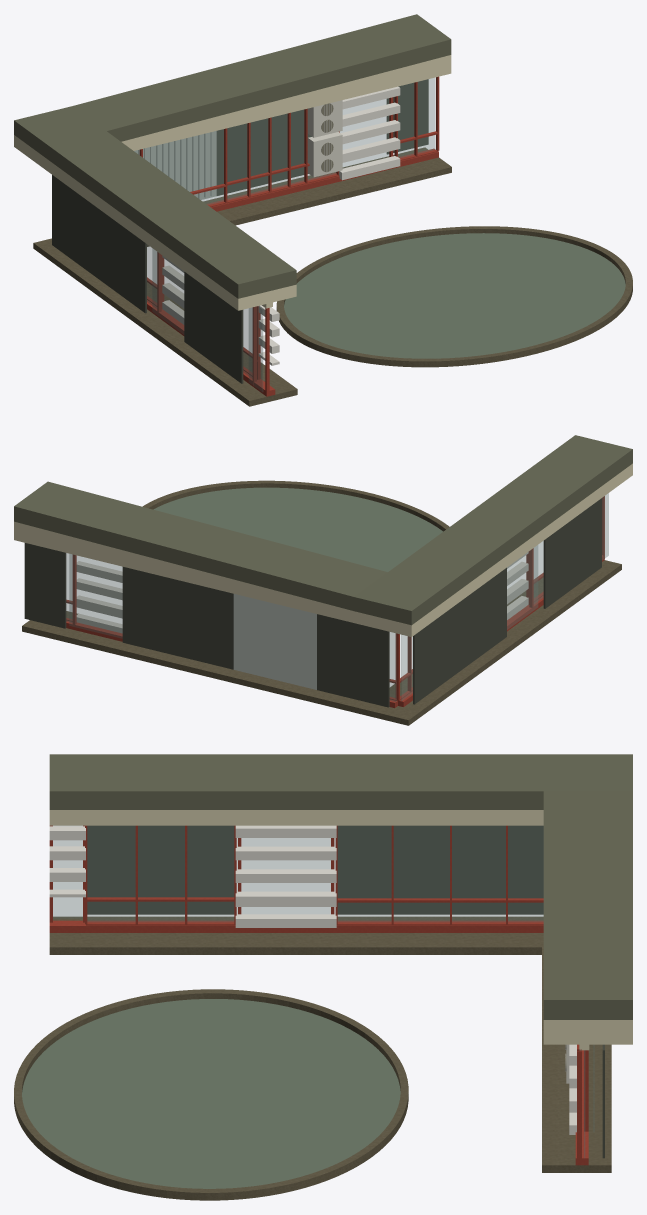
Rendered from full-source.glb.
3 views of the same model, one above another, from view 1: azimuth 30°, elevation 25°; view 2: azimuth 150°, elevation 25°; view 3: azimuth 270°, elevation 25° (orthographic). The views are drawn at different scales.
Parts seen in each view (by area): view 1: 淮阴路姚氏住宅水庭转角长窗与水平格栅; view 2: 淮阴路姚氏住宅水庭转角长窗与水平格栅; view 3: 淮阴路姚氏住宅水庭转角长窗与水平格栅.
Boxes of the visible parts, <box> form: 淮阴路姚氏住宅水庭转角长窗与水平格栅: <box>14,14,632,406</box>; 淮阴路姚氏住宅水庭转角长窗与水平格栅: <box>14,435,632,725</box>; 淮阴路姚氏住宅水庭转角长窗与水平格栅: <box>14,754,632,1200</box>.
Size of the model in its own units: 12.46 by 3.7 by 11.69.
11 materials, 2 textured.
